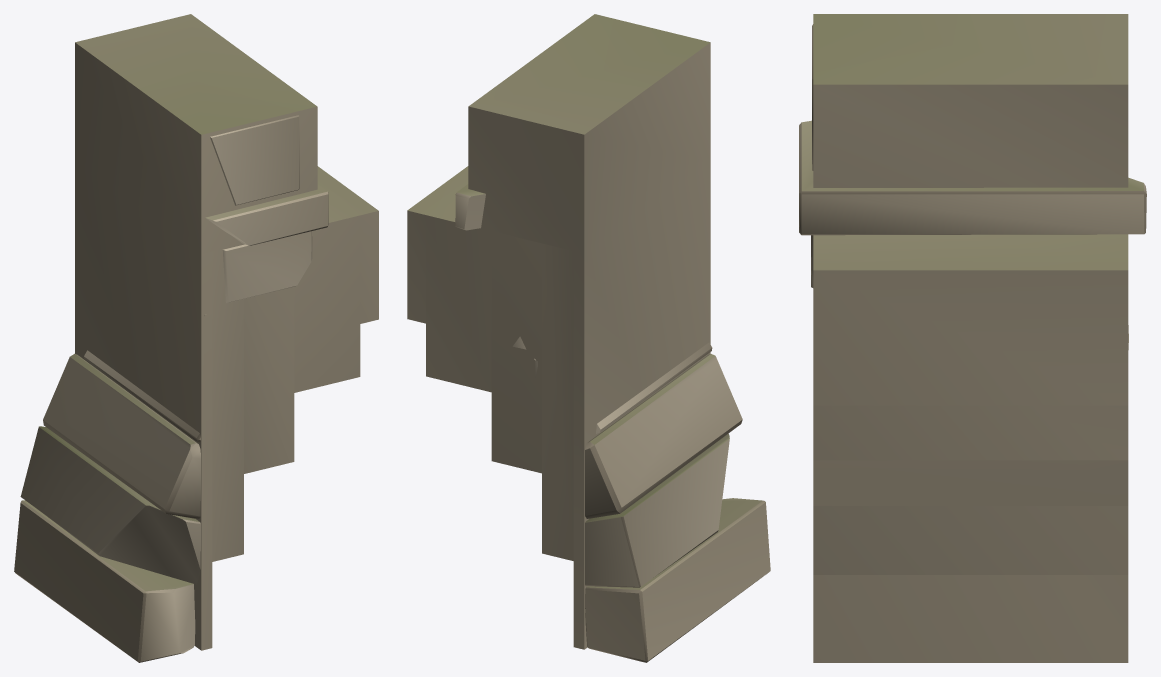
The model's file is aqueduct_arch_broken.glb.
3 renders of one model, left to right at view 1: azimuth 30°, elevation 25°; view 2: azimuth 150°, elevation 25°; view 3: azimuth 270°, elevation 25°, orthographic. The views are drawn at different scales.
Parts seen in each view (by area): view 1: aqueduct_arch_broken_far, aqueduct_arch_broken; view 2: aqueduct_arch_broken_far, aqueduct_arch_broken; view 3: aqueduct_arch_broken_far, aqueduct_arch_broken.
Part boxes in pixels (x1,y1,x2,y2): aqueduct_arch_broken_far: (75, 14, 378, 650); aqueduct_arch_broken: (14, 115, 328, 662); aqueduct_arch_broken_far: (407, 14, 710, 649); aqueduct_arch_broken: (455, 184, 770, 662); aqueduct_arch_broken_far: (813, 14, 1128, 662); aqueduct_arch_broken: (799, 24, 1146, 349).
Bounding box in the file's own units: 5.47 × 11.25 × 5.52.
